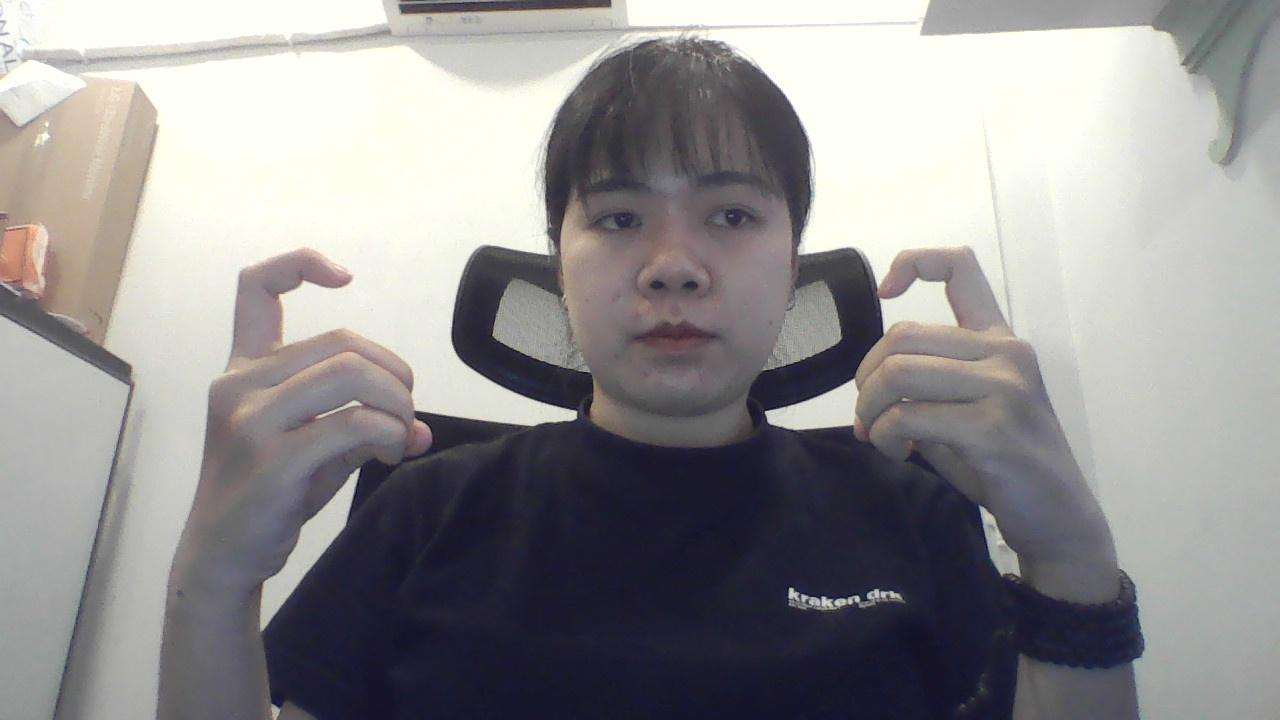D: (148, 234, 458, 610), (830, 219, 1132, 573)
